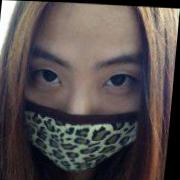WRONG: (10, 37, 155, 176)
